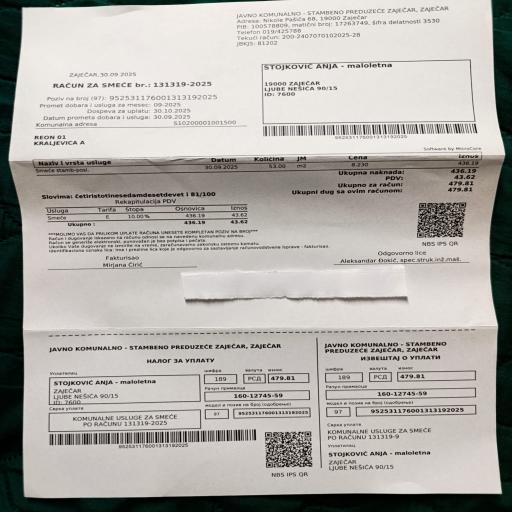racun_za_smece: (30, 150, 483, 192)
